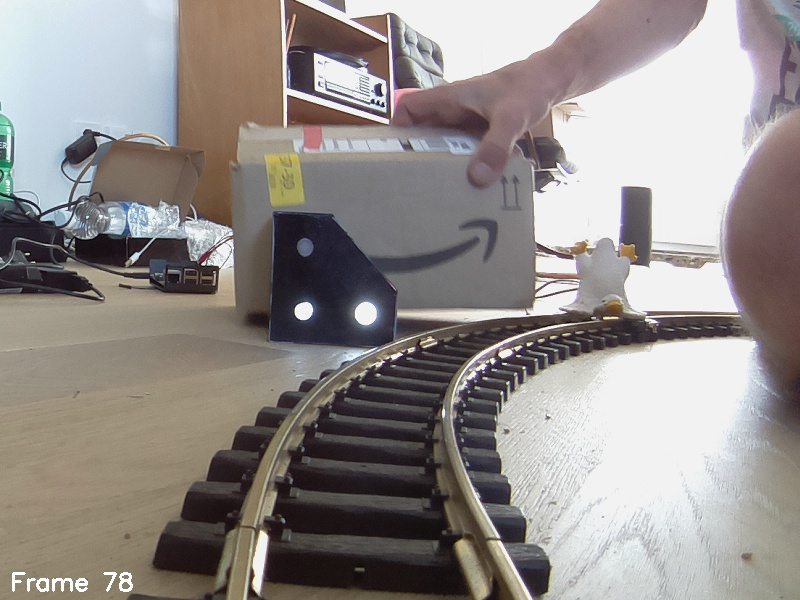Halt: (272, 210, 393, 346)
